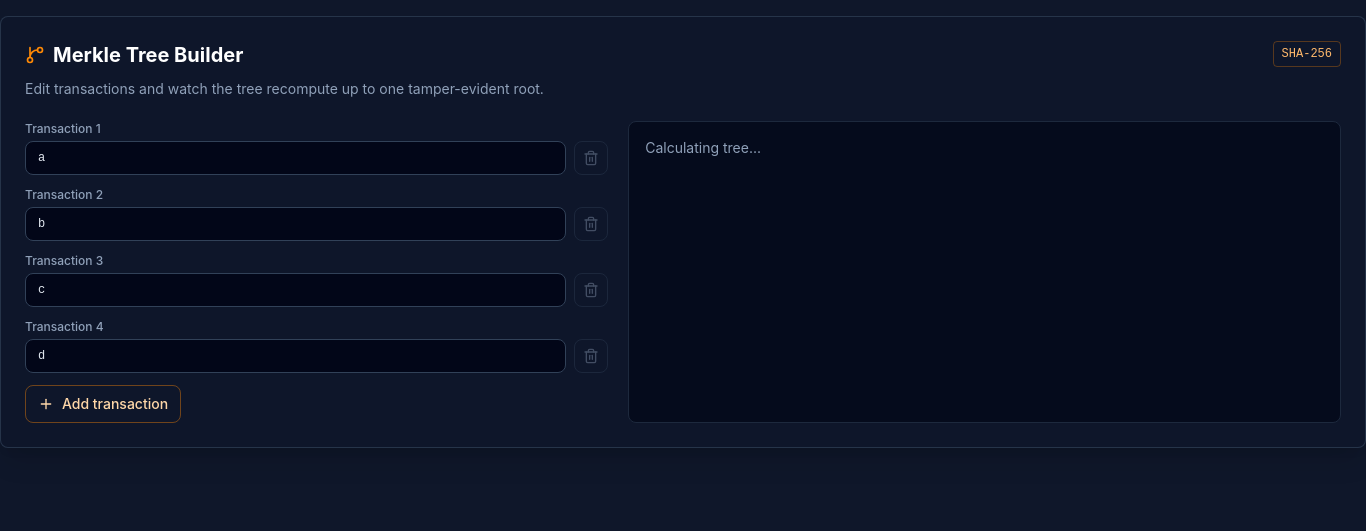
MerkleTreeBuilder › adds and removes transactions within the allowed 4 to 8 range
Click the button "Add transaction" at [103, 404], box [25,385,181,423]
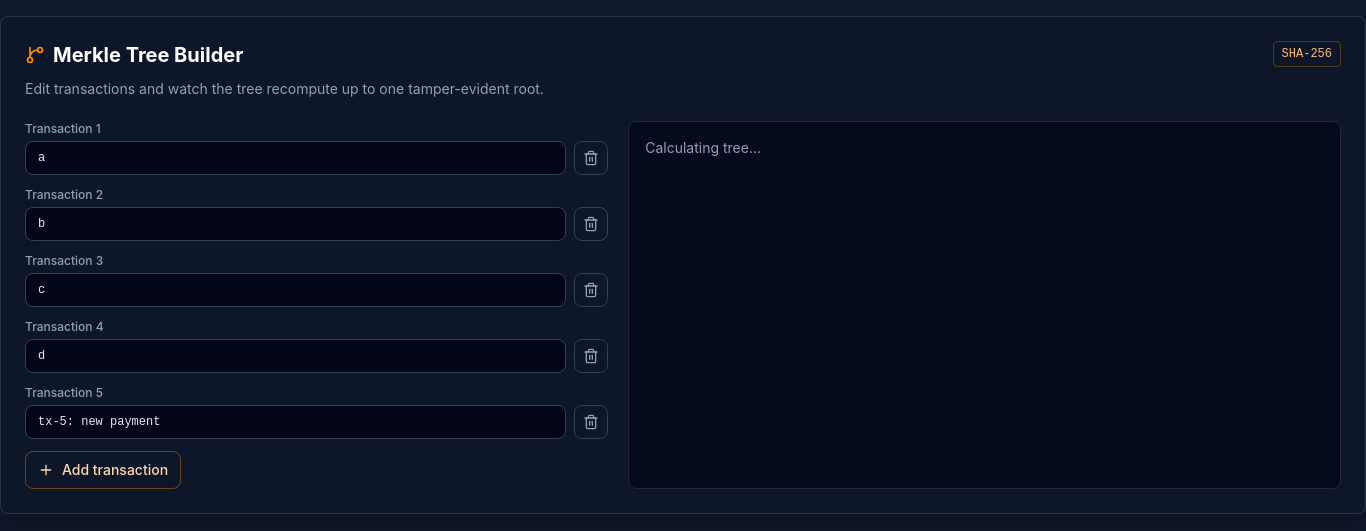
Now the number of fields labelled "Transaction 1" is 5, box [25,141,566,175]; [25,207,566,241]; [25,273,566,307]; [25,339,566,373]; [25,405,566,439]
Click the button named "Remove transaction 5" at [591, 422], box [574,405,608,439]
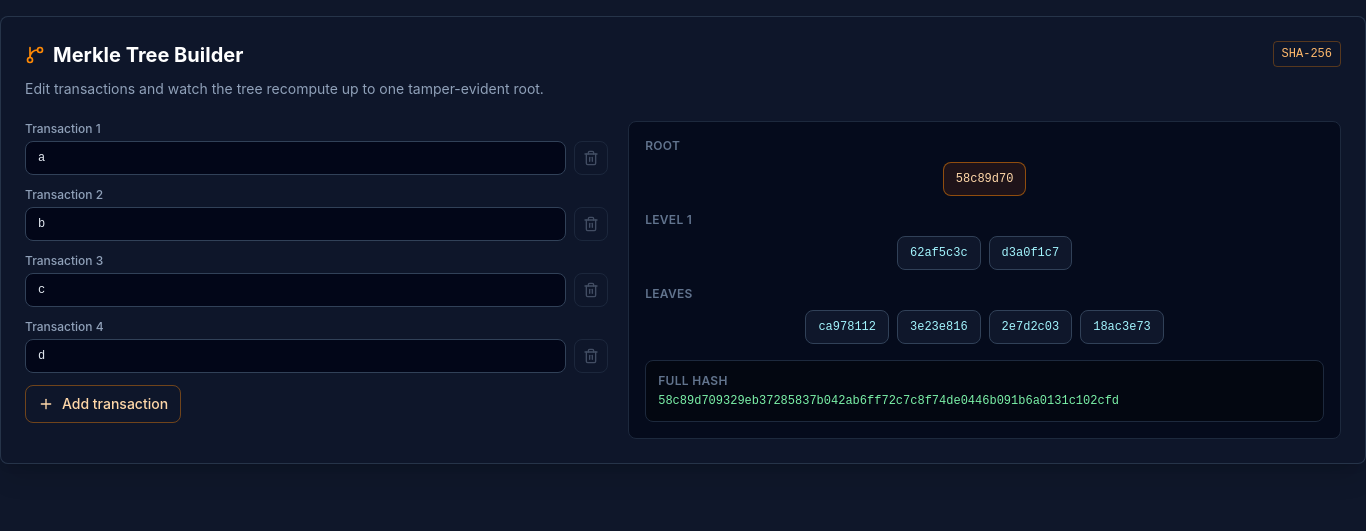
Now the number of fields labelled "Transaction 1" is 4, box [25,141,566,175]; [25,207,566,241]; [25,273,566,307]; [25,339,566,373]
Now the button named "Remove transaction 1" is disabled, box [574,141,608,175]
